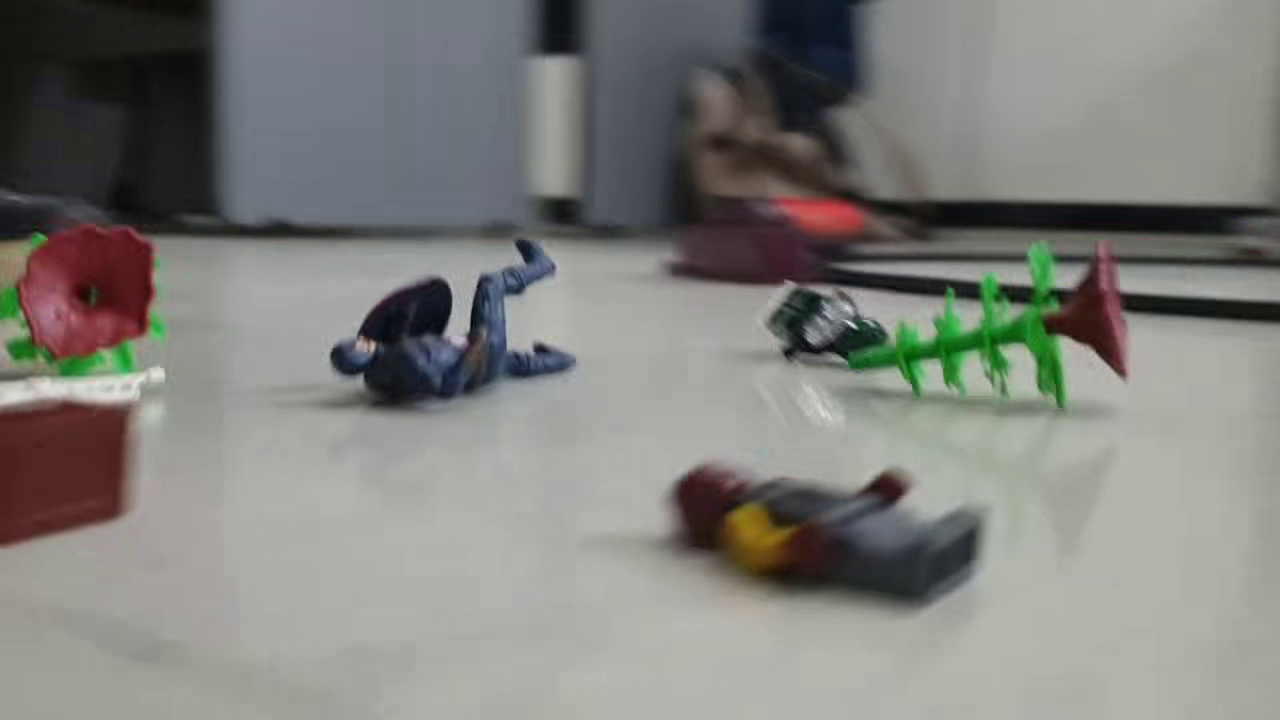people: (662, 455, 985, 611), (328, 231, 582, 419), (761, 281, 896, 376)
tree: (847, 237, 1130, 408), (1, 213, 167, 378)
